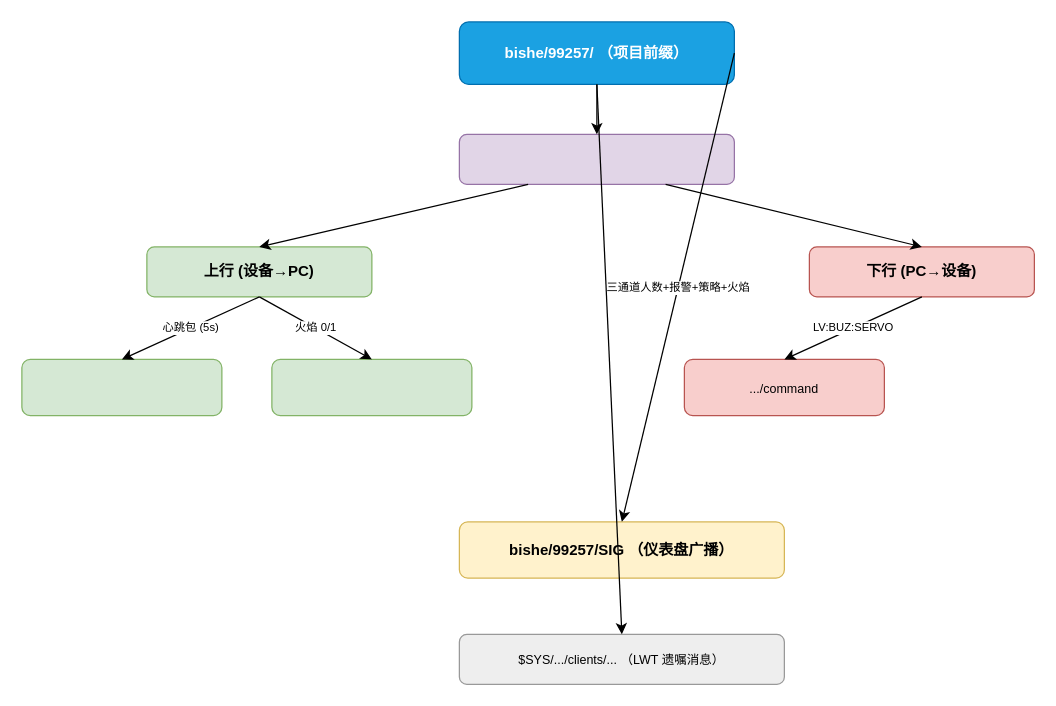
The diagram is 1056 pixels wide and 706 high, and some of its shapes have lost their labels. The centre of each missing label's shape, as x and y in pixels:
".../flame" belongs at point (371, 387).
".../status" belongs at point (121, 387).
"{device_id} 设备通配符" belongs at point (596, 158).
